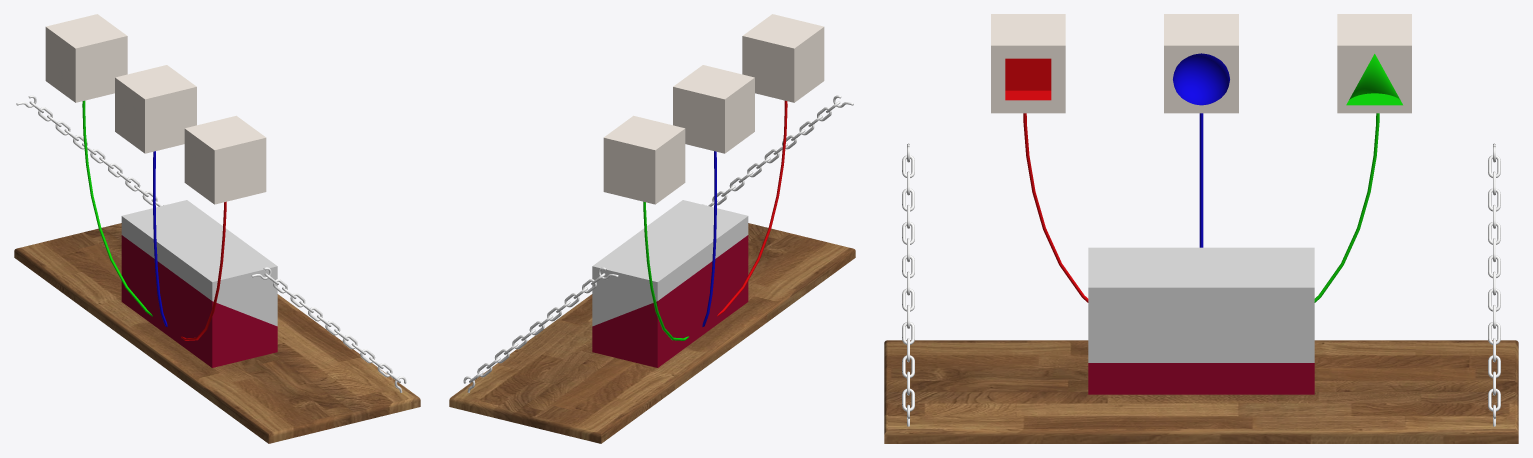
The model's file is find the shapes puzzle.fbx.
3 views of the same model, side by side, from view 1: azimuth 30°, elevation 25°; view 2: azimuth 150°, elevation 25°; view 3: azimuth 270°, elevation 25° (orthographic). The views are drawn at different scales.
Visible parts, largest first — view 1: puzzle table, key cover, key base, red socket, green socket, blue socket, puzzle table chain, cable pyramid, cable sphere, cable cube; view 2: puzzle table, key cover, key base, green socket, red socket, blue socket, puzzle table chain, cable cube, cable sphere, cable pyramid; view 3: puzzle table, key cover, blue socket, green socket, red socket, key base, puzzle table chain, cable cube, cable pyramid, cable sphere.
Boxes of the visible parts, box(x1,y1,x2,y2) form: puzzle table: box(14, 223, 420, 443); key cover: box(121, 200, 277, 326); key base: box(121, 235, 277, 367); red socket: box(184, 115, 266, 204); green socket: box(45, 14, 127, 102); blue socket: box(115, 65, 196, 153); puzzle table chain: box(29, 101, 400, 382); cable pyramid: box(82, 100, 152, 316); cable sphere: box(153, 151, 167, 326); cable cube: box(181, 201, 226, 340); puzzle table: box(449, 223, 855, 443); key cover: box(592, 200, 748, 326); key base: box(592, 235, 748, 367); green socket: box(603, 115, 685, 204); red socket: box(742, 14, 824, 102); blue socket: box(673, 65, 754, 153); puzzle table chain: box(469, 101, 840, 382); cable cube: box(717, 100, 787, 316); cable sphere: box(702, 151, 716, 326); cable pyramid: box(643, 201, 688, 340); puzzle table: box(884, 340, 1518, 443); key cover: box(1088, 247, 1314, 362); blue socket: box(1164, 14, 1238, 113); green socket: box(1337, 14, 1411, 113); red socket: box(991, 14, 1065, 113); key base: box(1088, 363, 1314, 394); puzzle table chain: box(902, 155, 1500, 411); cable cube: box(1023, 113, 1088, 302); cable pyramid: box(1314, 113, 1379, 302); cable sphere: box(1199, 113, 1203, 247).
Bounding box in the file's own units: 40.96 × 63.51 × 110.
